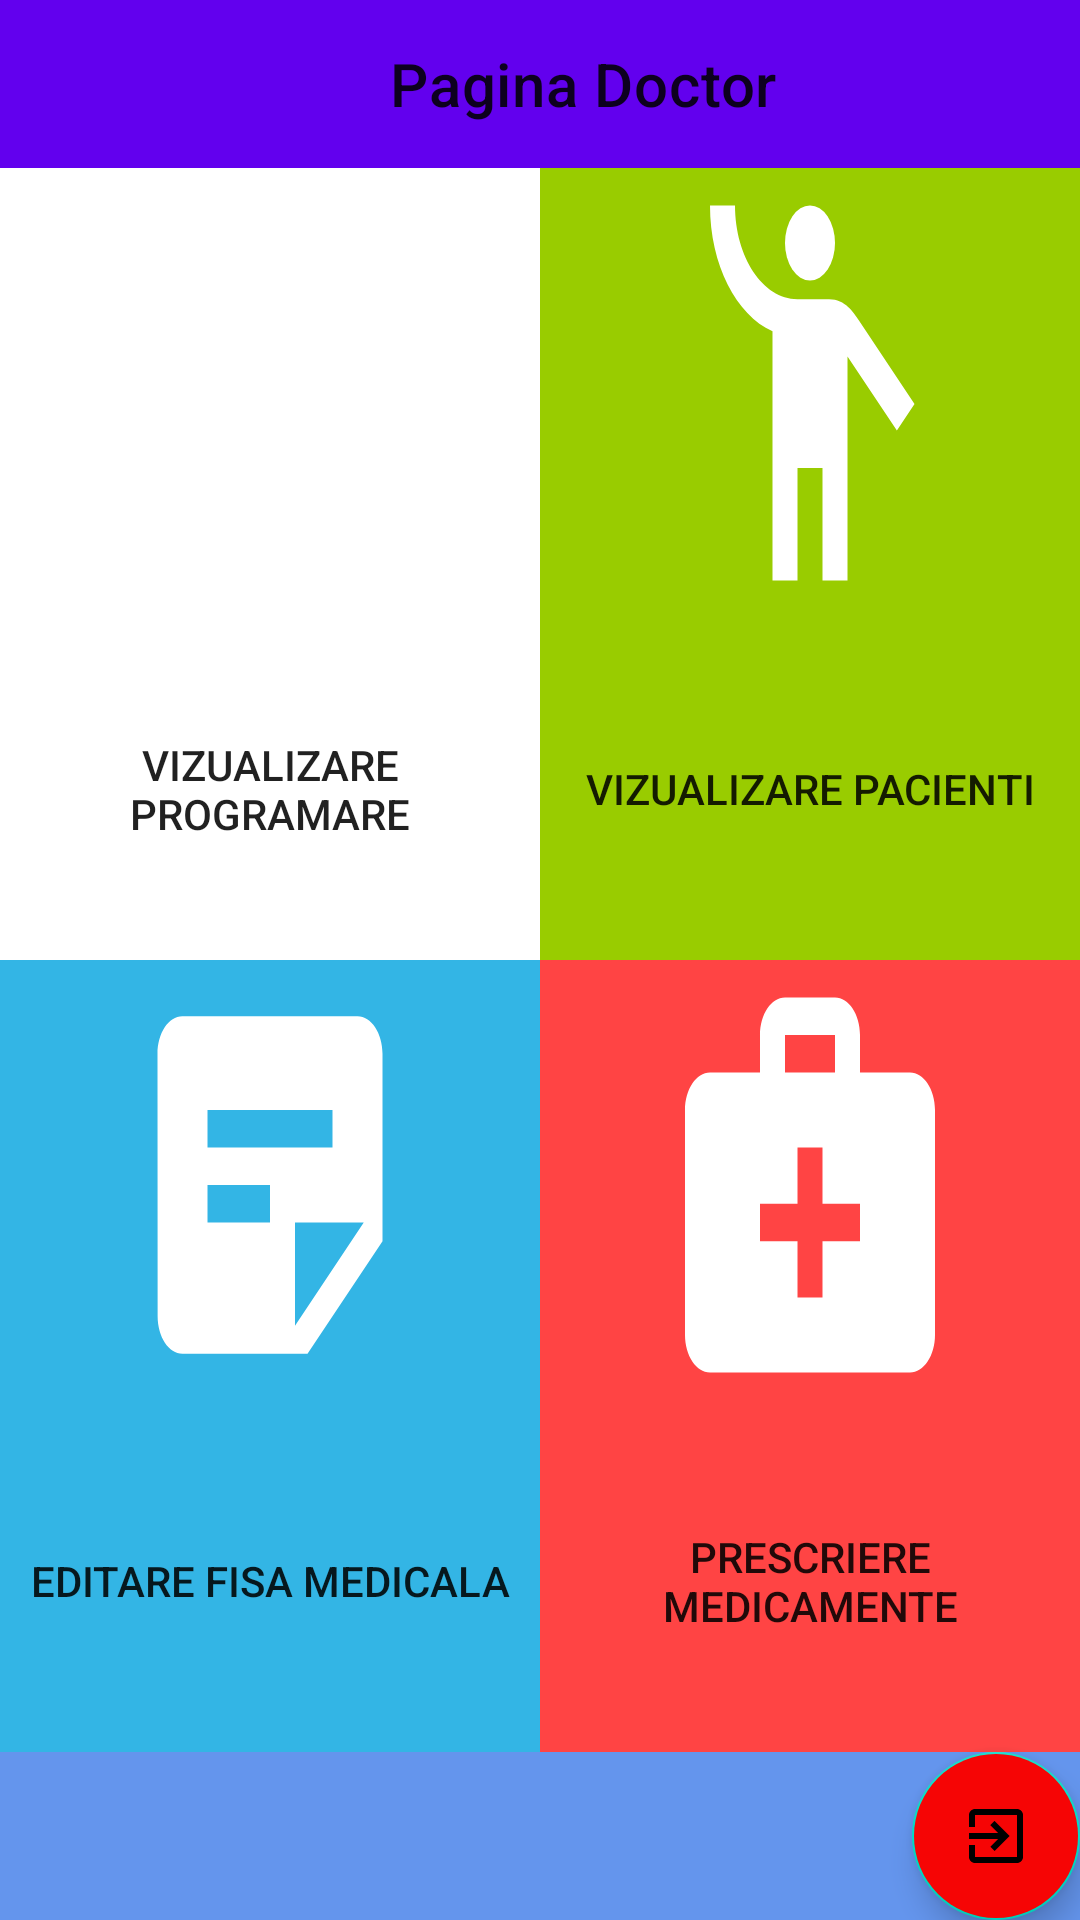

Point at icon controls on the screen. Image size 1080x1920, points as point (x, y).
exit to app: point (996, 1836)
